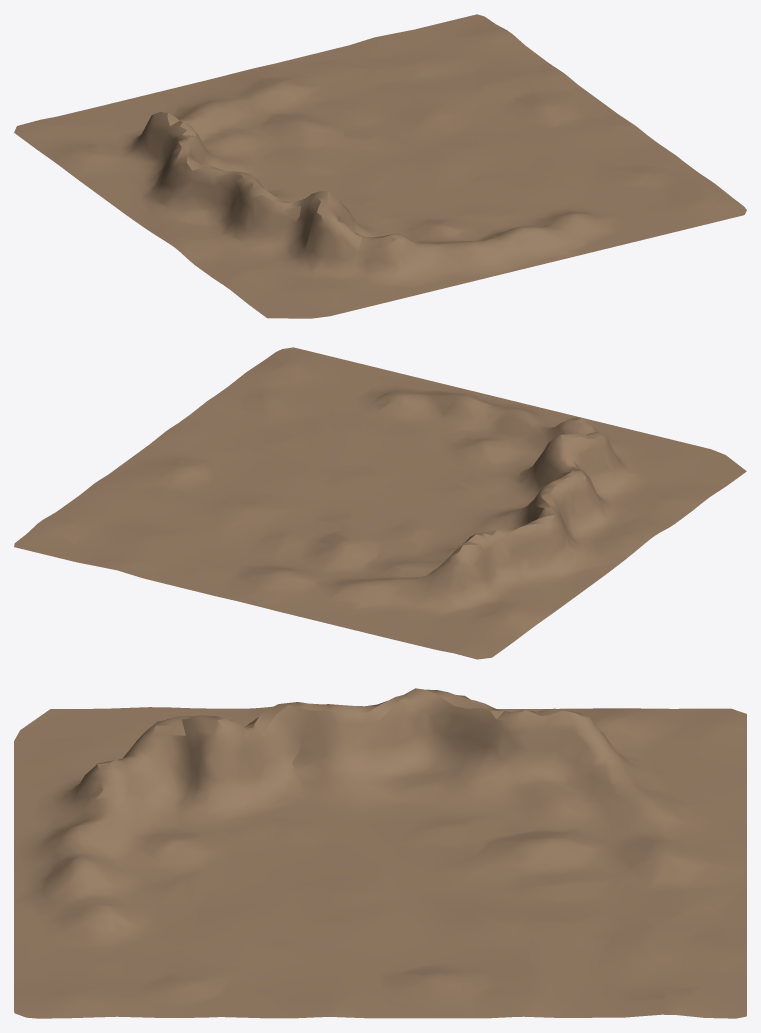
The model's file is low_Map UVd.fbx.
The picture shows the model from 3 angles, top to bottom: view 1: azimuth 30°, elevation 25°; view 2: azimuth 150°, elevation 25°; view 3: azimuth 270°, elevation 25°; orthographic projection. The views are drawn at different scales.
Visible parts, largest first — view 1: pPlane3; view 2: pPlane3; view 3: pPlane3.
Part boxes in pixels (box(x1,y1,x2,y2)): pPlane3: box(14, 14, 746, 318); pPlane3: box(14, 347, 746, 659); pPlane3: box(14, 688, 746, 1018).
Bounding box in the file's own units: 24 × 2.51 × 24.
